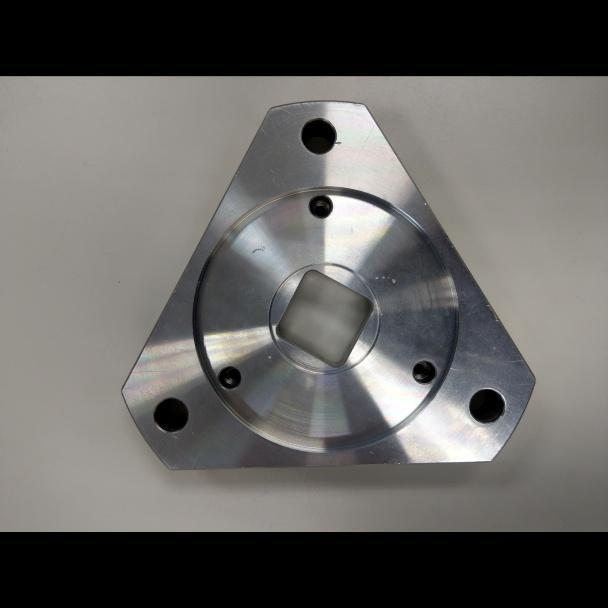hole: (150, 393, 192, 437), (297, 114, 338, 157), (466, 385, 508, 426), (410, 356, 442, 386), (305, 190, 334, 220), (216, 363, 242, 391)
